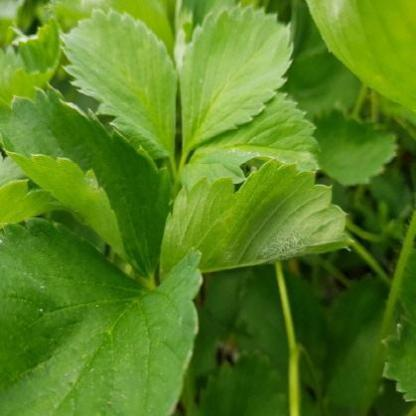Strawberry_Powdery_Mildew_Leaf: (158, 156, 354, 284), (189, 92, 322, 170)
